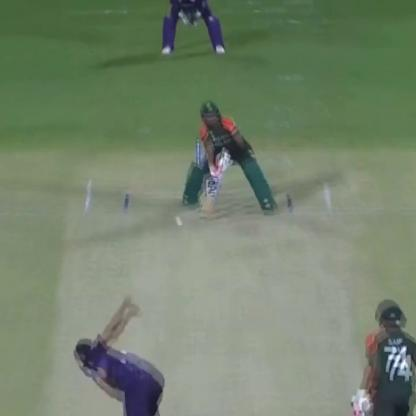ball: (170, 218, 187, 230)
bat: (198, 149, 228, 211)
pitch: (53, 173, 354, 416)
